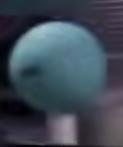algae: (9, 21, 108, 113)
coral: (48, 113, 78, 147)
